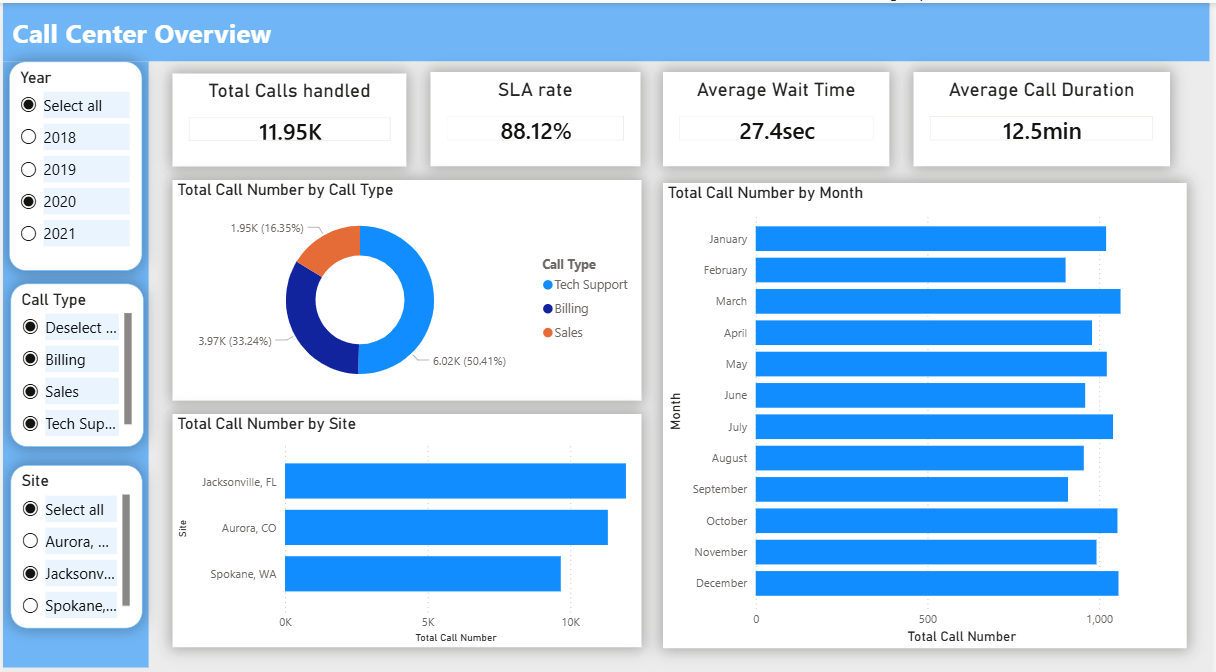

What the dashboard file says about the page in this screenshot:
{"tool":"powerbi","page":{"name":"Call Center Overview","canvas":[1280,720],"ordinal":1},"visuals":[{"type":"shape","box":[0,0,1279.4,61.8],"z":0},{"type":"cardVisual","title":"Total Calls handled","fields":{"Data":["Model Measures.Total Call Number"]},"box":[179.7,74.8,248.1,98.6],"z":1000},{"type":"shape","box":[0,61.8,154.4,642.6],"z":2000},{"type":"listSlicer","fields":{"Values":["Date.Year"]},"box":[5.9,61.8,141.2,222.1],"z":3000},{"type":"cardVisual","title":"Average Call Duration","fields":{"Data":["Model Measures.Average Call Duration (card display)"]},"box":[965.5,73.2,272,100.2],"z":4000},{"type":"listSlicer","fields":{"Values":["Dim Call Types.Call Type"]},"box":[7.4,297.1,141.2,173.5],"z":5000},{"type":"listSlicer","fields":{"Values":["Dim Employees.Site"]},"box":[7.4,489.7,139.7,173.5],"z":6000},{"type":"cardVisual","title":"Average Wait Time ","fields":{"Data":["Model Measures.Average Wait Time (card display)"]},"box":[699.9,73.2,240.2,100.2],"z":7000},{"type":"cardVisual","title":"SLA rate","fields":{"Data":["Model Measures.SLA Rate %"]},"box":[453.3,73.2,222.7,100.2],"z":8000},{"type":"donutChart","fields":{"Category":["Dim Call Types.Call Type"],"Y":["Model Measures.Total Call Number"]},"box":[179.5,187.1,497,234.3],"z":9000},{"type":"clusteredBarChart","fields":{"Category":["Date.Month"],"Y":["Model Measures.Total Call Number"]},"box":[699.9,190.9,555.1,493.1],"z":10000},{"type":"clusteredBarChart","fields":{"Y":["Model Measures.Total Call Number"],"Category":["Dim Employees.Site"]},"box":[179.5,436.5,497,247.6],"z":11000}]}

Visuals, with their boxes in screenshot pixels (x1, y1, x2, y2), scaled from the page's 1280x720 canvas onto the 1216x672 screenshot:
shape: {"x1": 0, "y1": 0, "x2": 1215, "y2": 58}
"Total Calls handled" cardVisual: {"x1": 171, "y1": 70, "x2": 406, "y2": 162}
shape: {"x1": 0, "y1": 58, "x2": 147, "y2": 657}
listSlicer - Date.Year: {"x1": 6, "y1": 58, "x2": 140, "y2": 265}
"Average Call Duration" cardVisual: {"x1": 917, "y1": 68, "x2": 1176, "y2": 162}
listSlicer - Dim Call Types.Call Type: {"x1": 7, "y1": 277, "x2": 141, "y2": 439}
listSlicer - Dim Employees.Site: {"x1": 7, "y1": 457, "x2": 140, "y2": 619}
"Average Wait Time " cardVisual: {"x1": 665, "y1": 68, "x2": 893, "y2": 162}
"SLA rate" cardVisual: {"x1": 431, "y1": 68, "x2": 642, "y2": 162}
donutChart - Dim Call Types.Call Type x Model Measures.Total Call Number: {"x1": 171, "y1": 175, "x2": 643, "y2": 393}
clusteredBarChart - Date.Month x Model Measures.Total Call Number: {"x1": 665, "y1": 178, "x2": 1192, "y2": 638}
clusteredBarChart - Model Measures.Total Call Number x Dim Employees.Site: {"x1": 171, "y1": 407, "x2": 643, "y2": 638}
